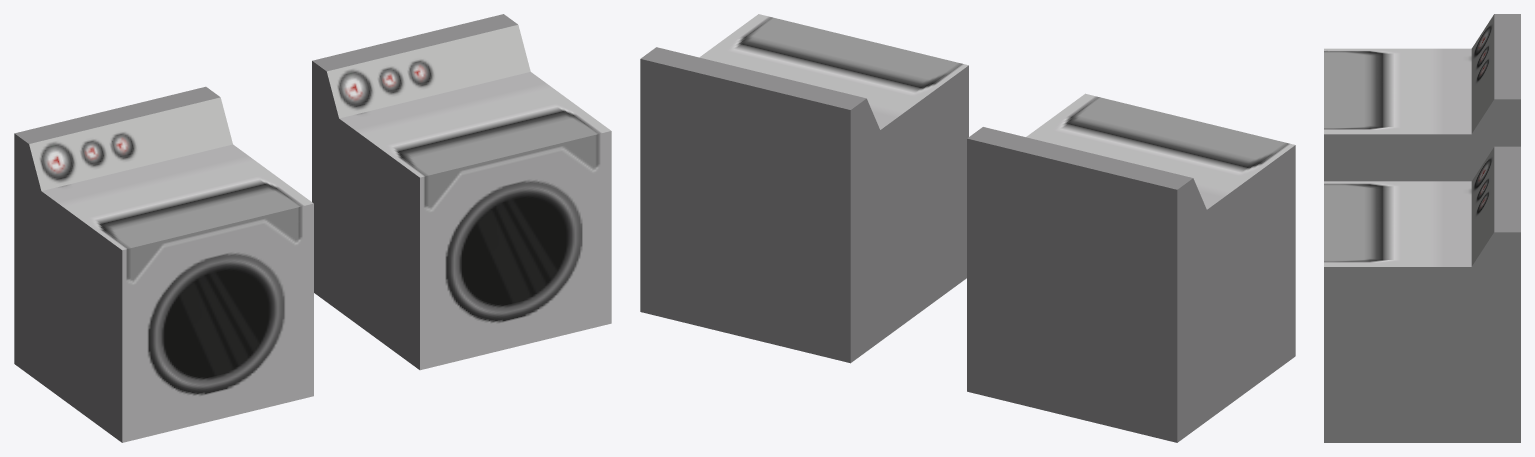
File: Bundle_Dryers.fbx
3 views of the same model, side by side, from view 1: azimuth 30°, elevation 25°; view 2: azimuth 150°, elevation 25°; view 3: azimuth 270°, elevation 25° (orthographic). The views are drawn at different scales.
Visible parts, largest first — view 1: Bundle_Dryer_1; view 2: Bundle_Dryer_1; view 3: Bundle_Dryer_1.
Boxes of the visible parts, x1,y1,x2,y2 form: Bundle_Dryer_1: (14, 14, 611, 442); Bundle_Dryer_1: (640, 14, 1295, 442); Bundle_Dryer_1: (1324, 14, 1520, 442).
Bounding box in the file's own units: 261 × 118 × 99.6.
